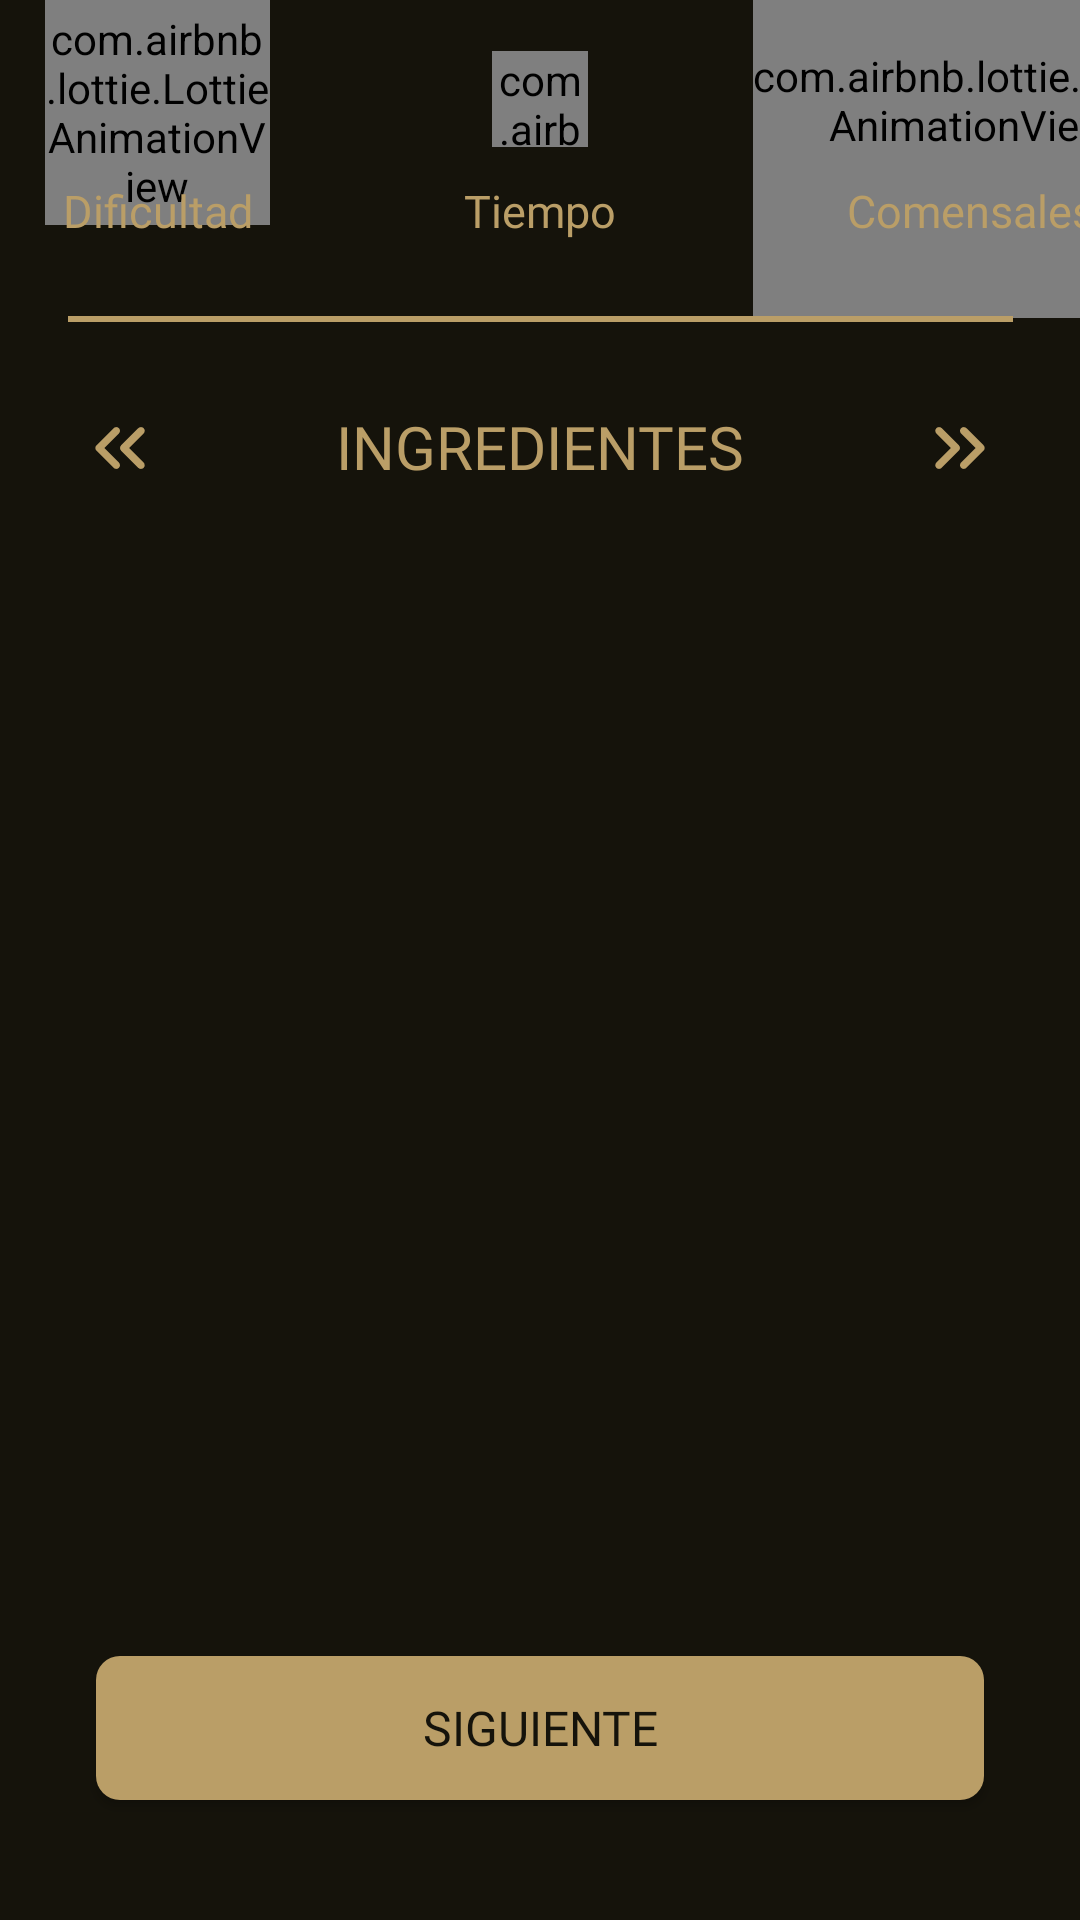

Icon bounding boxes for this 1080px x 1920px phone screenshot, format Rect(x1, y1, x2, y2):
arrow left: Rect(95, 427, 145, 469)
arrow right: Rect(935, 427, 985, 469)
